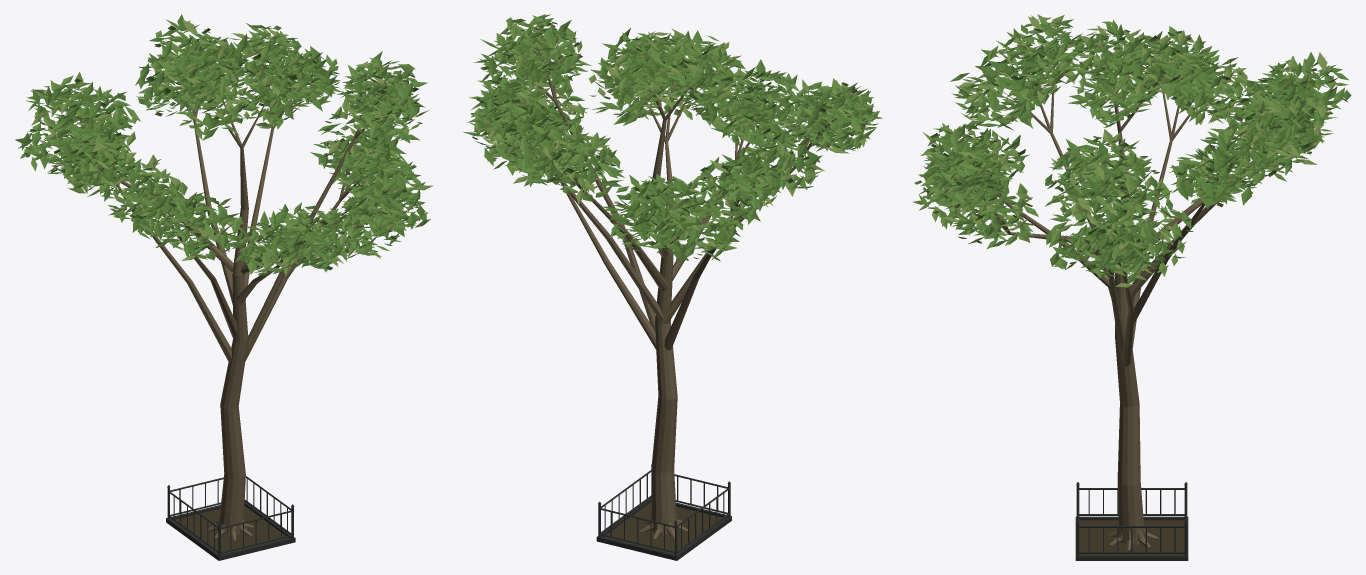
The model's file is street-tree.glb.
3 views of the same model, side by side, from view 1: azimuth 30°, elevation 25°; view 2: azimuth 150°, elevation 25°; view 3: azimuth 270°, elevation 25° (orthographic). The views are drawn at different scales.
Parts seen in each view (by area): view 1: Street Tree / leaf 1, Street Tree / leaf 2, Street Tree / leaf 0, Street Tree / tree bark, Street Tree / leaf 3, Street Tree / black iron, Street Tree / soil; view 2: Street Tree / leaf 2, Street Tree / leaf 1, Street Tree / tree bark, Street Tree / leaf 0, Street Tree / leaf 3, Street Tree / black iron, Street Tree / soil; view 3: Street Tree / leaf 2, Street Tree / leaf 1, Street Tree / leaf 0, Street Tree / leaf 3, Street Tree / tree bark, Street Tree / black iron, Street Tree / soil.
Part boxes in pixels (bbox=[...]): Street Tree / leaf 1: bbox=[21, 19, 426, 274]; Street Tree / leaf 2: bbox=[20, 20, 433, 275]; Street Tree / leaf 0: bbox=[15, 14, 430, 274]; Street Tree / tree bark: bbox=[73, 59, 388, 540]; Street Tree / leaf 3: bbox=[29, 19, 423, 276]; Street Tree / black iron: bbox=[166, 476, 295, 560]; Street Tree / soil: bbox=[173, 505, 288, 554]; Street Tree / leaf 2: bbox=[469, 14, 879, 261]; Street Tree / leaf 1: bbox=[468, 14, 878, 261]; Street Tree / tree bark: bbox=[511, 45, 836, 538]; Street Tree / leaf 0: bbox=[463, 18, 882, 260]; Street Tree / leaf 3: bbox=[482, 20, 872, 259]; Street Tree / black iron: bbox=[596, 464, 731, 560]; Street Tree / soil: bbox=[603, 502, 724, 554]; Street Tree / leaf 2: bbox=[918, 14, 1348, 280]; Street Tree / leaf 1: bbox=[914, 20, 1351, 277]; Street Tree / leaf 0: bbox=[913, 19, 1339, 284]; Street Tree / leaf 3: bbox=[921, 15, 1336, 287]; Street Tree / tree bark: bbox=[962, 61, 1282, 549]; Street Tree / black iron: bbox=[1075, 482, 1188, 560]; Street Tree / soil: bbox=[1079, 520, 1184, 555].
Bounding box in the file's own units: 6.48 × 8.65 × 6.75.
